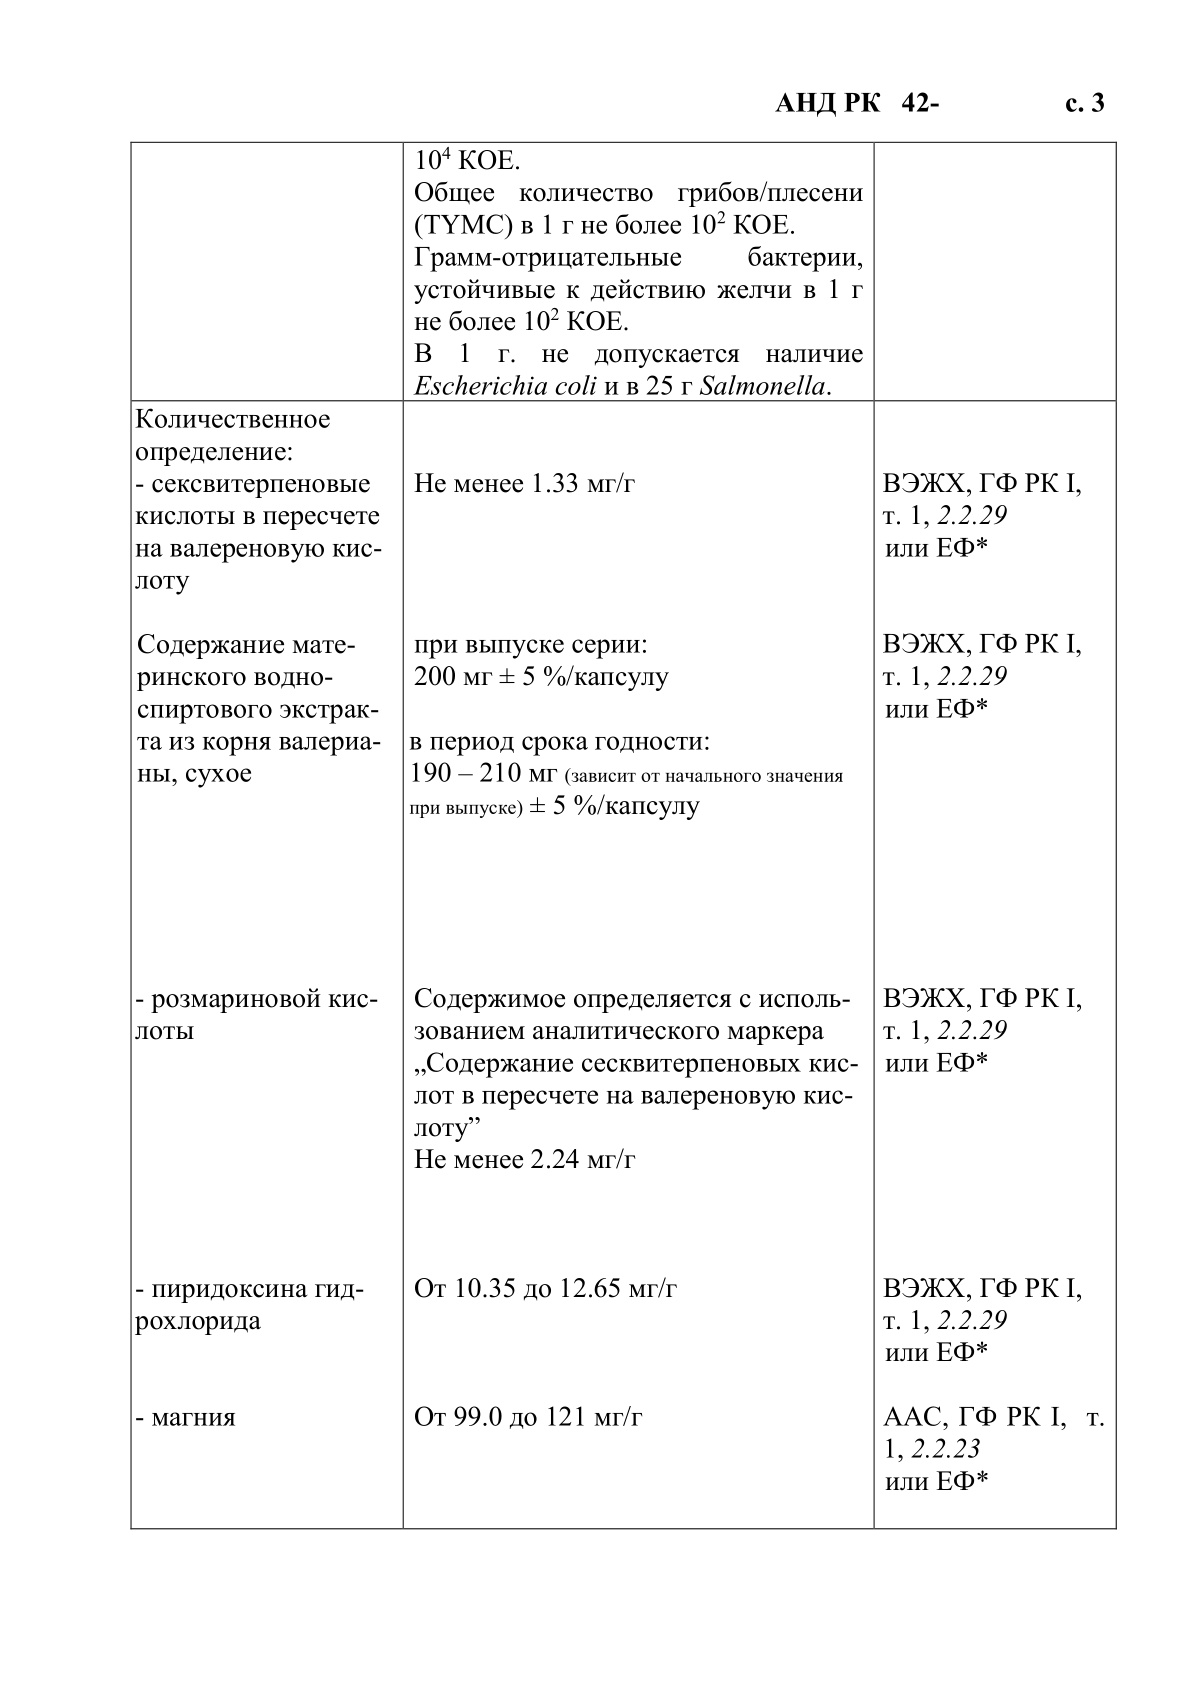full_lined: (128, 140, 1118, 1531)
